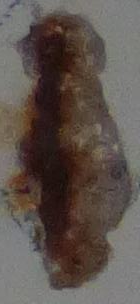Exposed reinforcement: (39, 32, 68, 234)
Spalling: (11, 10, 132, 293)
